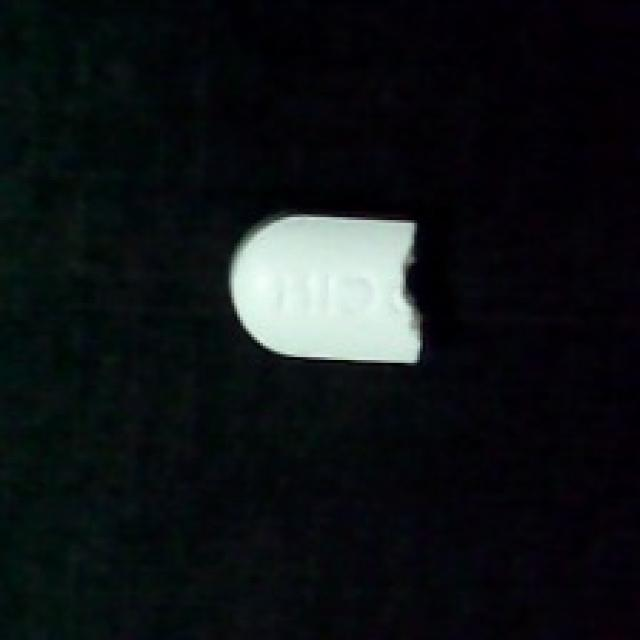defected: (223, 206, 429, 371)
